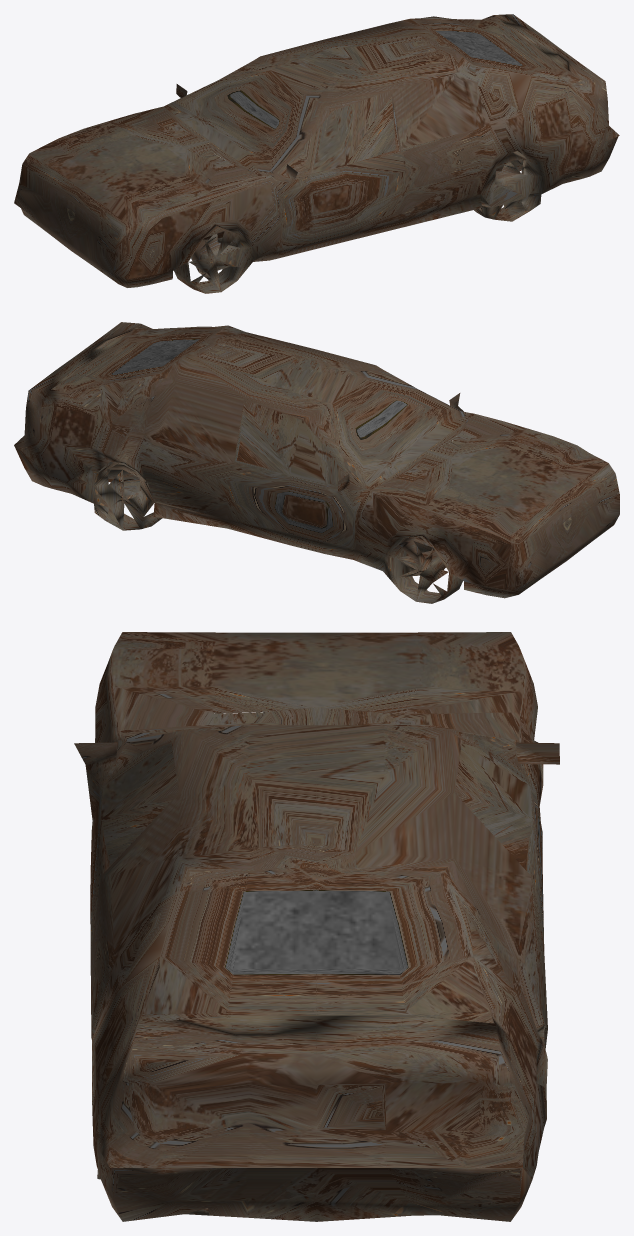
The model's file is abandoned_auto.glb.
3 renders of one model, top to bottom at view 1: azimuth 30°, elevation 25°; view 2: azimuth 150°, elevation 25°; view 3: azimuth 270°, elevation 25°, orthographic. The views are drawn at different scales.
Parts seen in each view (by area): view 1: abandoned_auto; view 2: abandoned_auto; view 3: abandoned_auto.
Boxes of the visible parts, bbox=[...] form: abandoned_auto: bbox=[14, 14, 619, 293]; abandoned_auto: bbox=[14, 322, 619, 603]; abandoned_auto: bbox=[74, 632, 559, 1221].
Size of the model in its own units: 0.509 by 0.1428 by 0.2104.
Materials: 1 (1 with a texture image).
